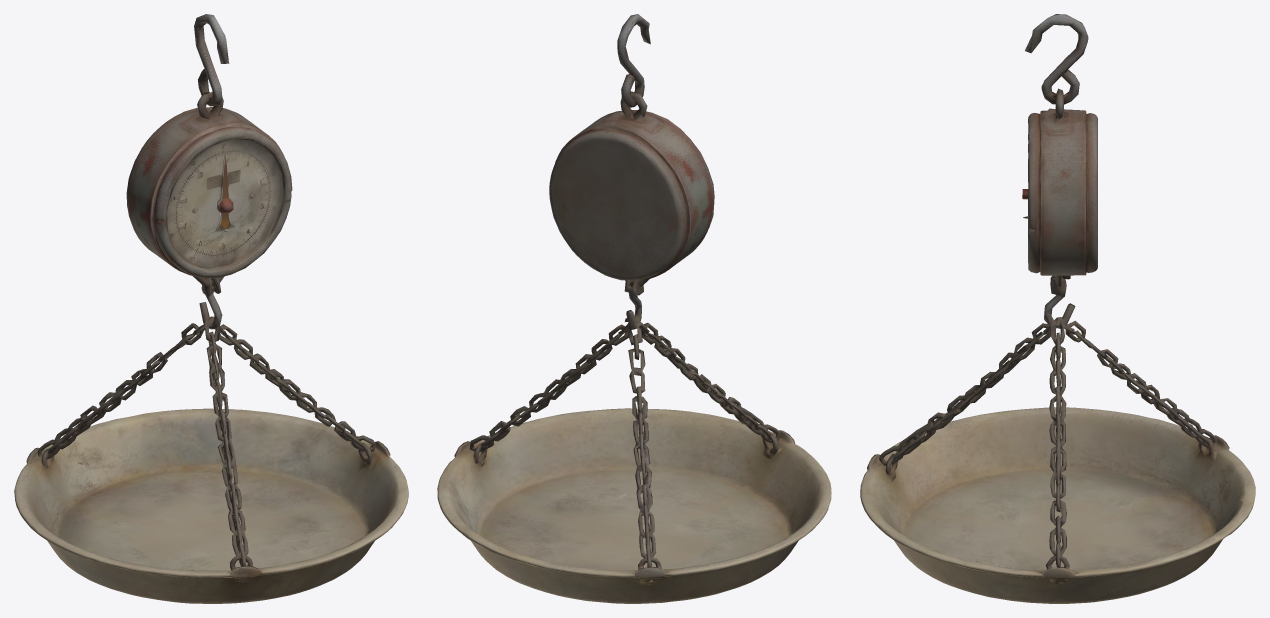
File: market_scale.glb
The picture shows the model from 3 angles, left to right: view 1: azimuth 30°, elevation 25°; view 2: azimuth 150°, elevation 25°; view 3: azimuth 270°, elevation 25°; orthographic projection.
Parts seen in each view (by area): view 1: tripo_node_a6fed1ab-8a64-481e-8cd3-b855a9a423ac; view 2: tripo_node_a6fed1ab-8a64-481e-8cd3-b855a9a423ac; view 3: tripo_node_a6fed1ab-8a64-481e-8cd3-b855a9a423ac.
Boxes of the visible parts, x1,y1,x2,y2 form: tripo_node_a6fed1ab-8a64-481e-8cd3-b855a9a423ac: [14, 14, 408, 603]; tripo_node_a6fed1ab-8a64-481e-8cd3-b855a9a423ac: [437, 14, 831, 603]; tripo_node_a6fed1ab-8a64-481e-8cd3-b855a9a423ac: [860, 14, 1255, 603].
Size of the model in its own units: 0.6873 by 1 by 0.6843.
1 material, 1 textured.
